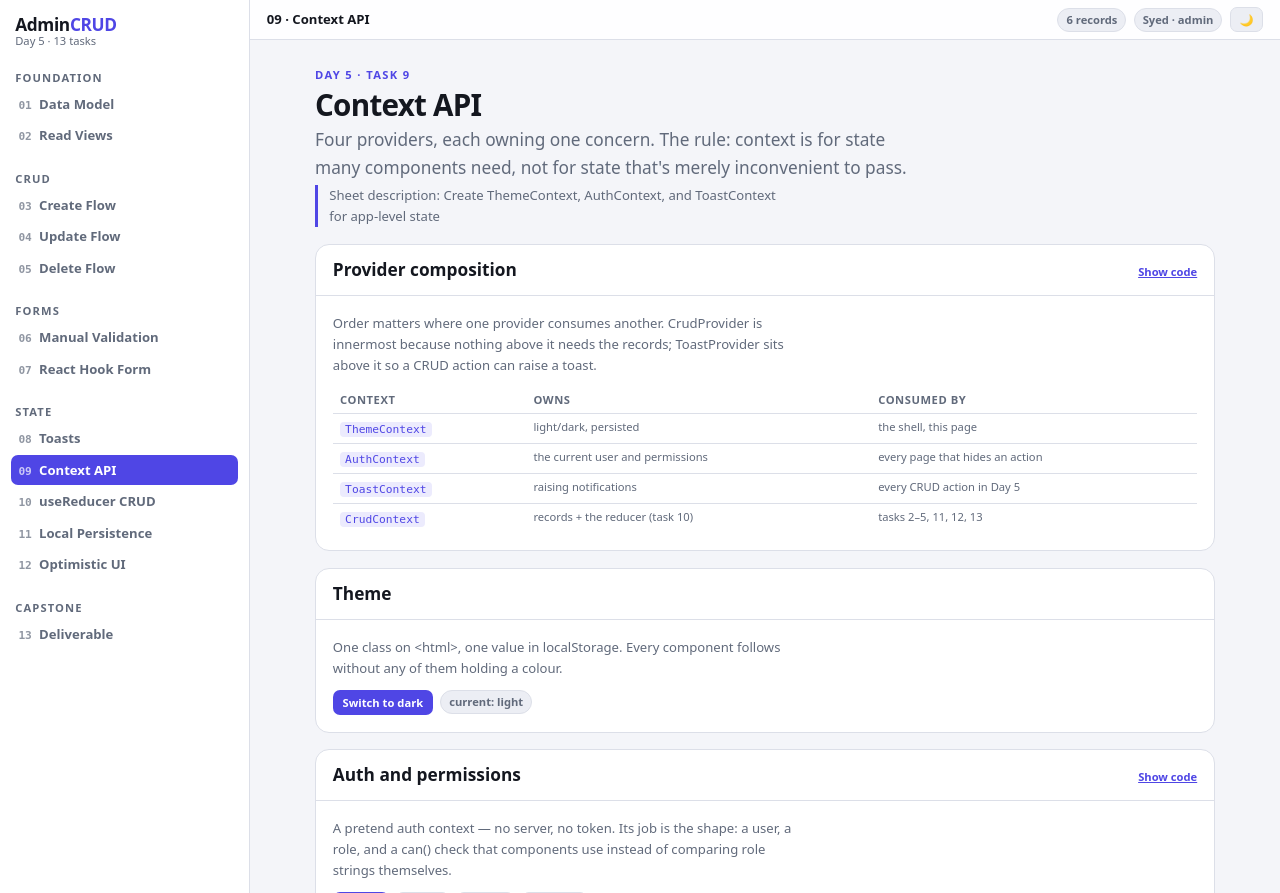
Test: task 9 — context › theme context writes a class onto <html> and persists
Expected: the text "Day 5 · Task 9" is shown, [315,67,410,82]
// The topbar has a toggle with the same accessible name — use the page's
Click the button "Switch to dark": click(383, 702) [333,690,433,715]
(page scrolled)
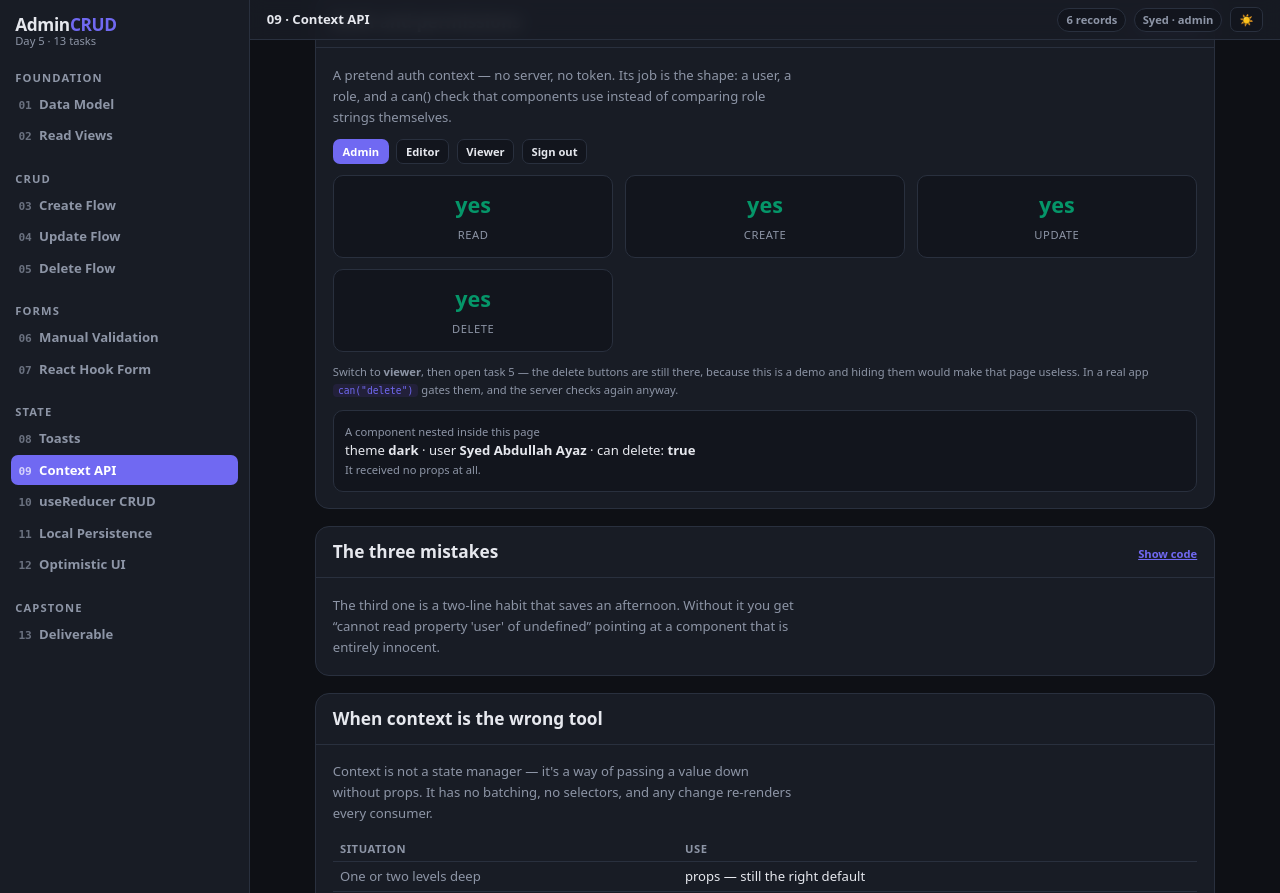
Expected: the text "dark" is shown, [388,441,419,459]
